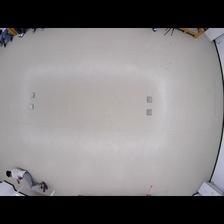fall: (2, 164, 48, 192)
